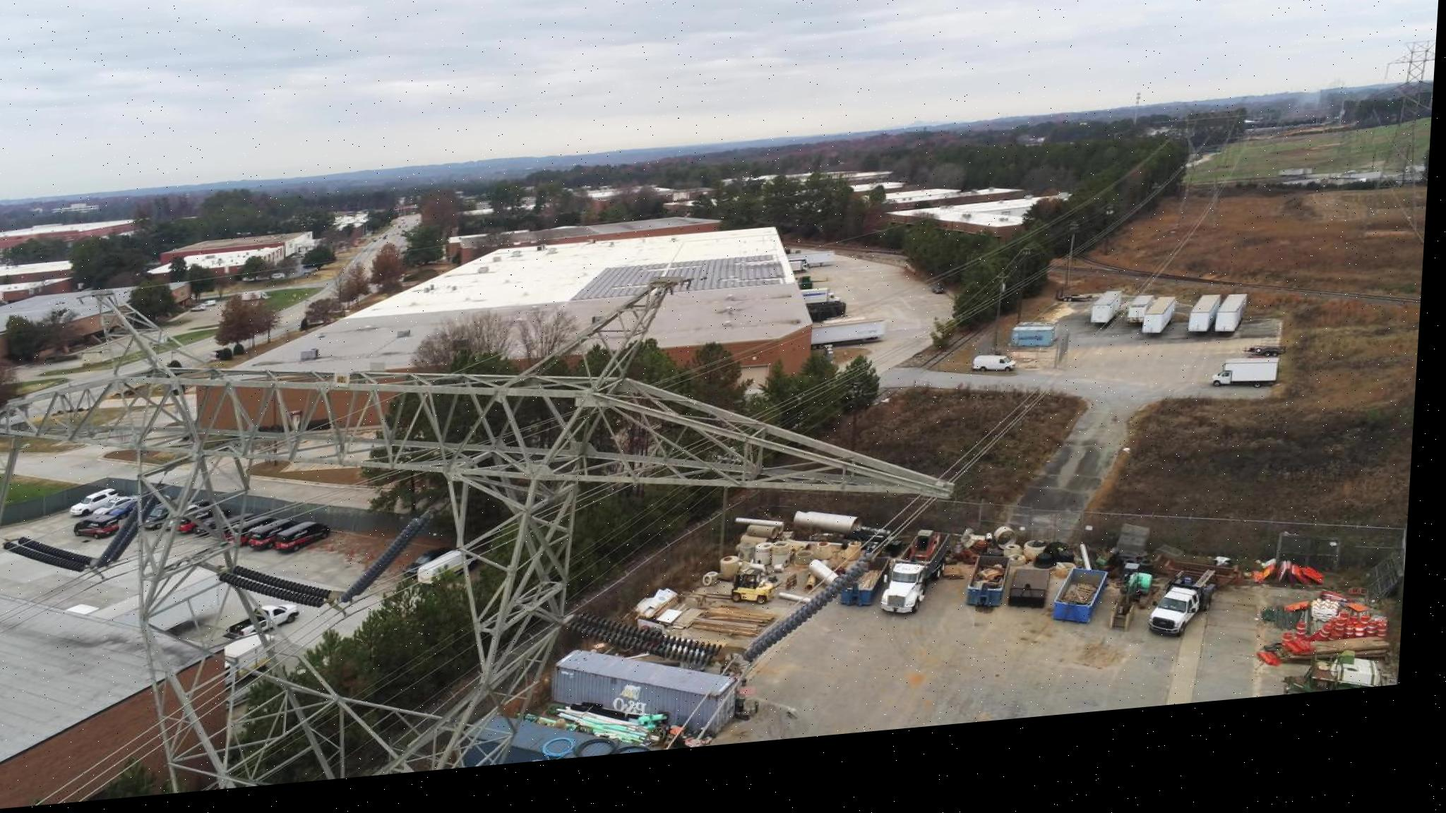tower: (0, 210, 979, 813)
